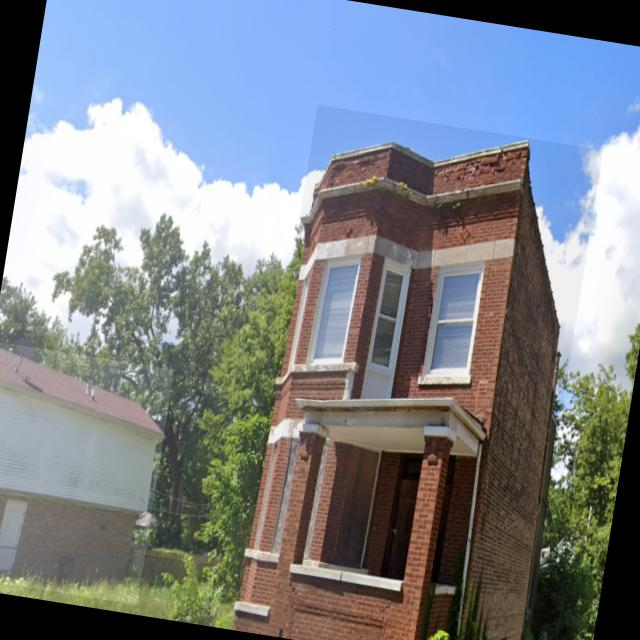House: (234, 105, 603, 640), (0, 341, 174, 604)
